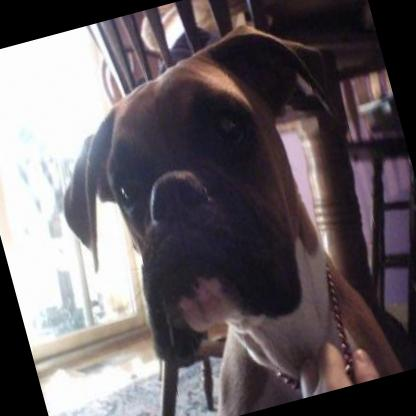boxer: (28, 6, 406, 416)
